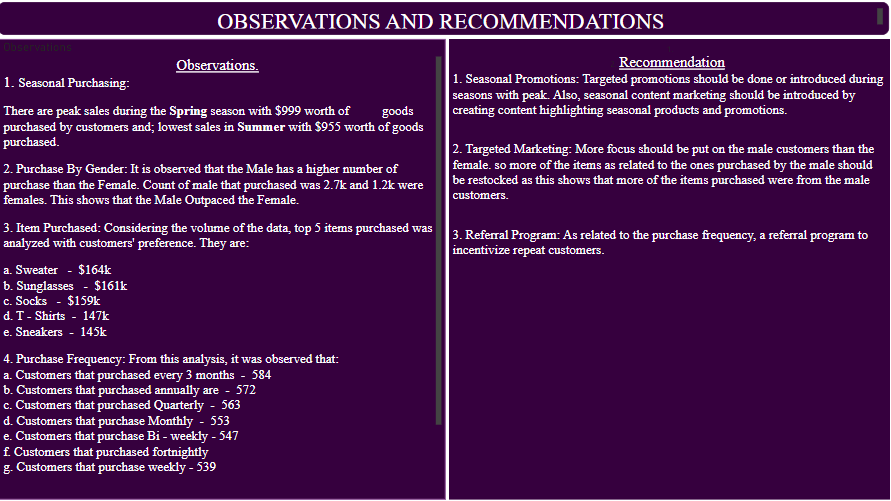

What the dashboard file says about the page in this screenshot:
{"tool":"powerbi","page":{"name":"Page 2","canvas":[1280,720],"ordinal":1},"visuals":[{"type":"textbox","box":[3.3,3.3,1273.3,46.7],"z":0},{"type":"textbox","title":"Observations","box":[3.9,56.3,637.5,658.5],"z":1000},{"type":"textbox","box":[646.7,56.3,629.7,658.5],"z":2000}]}

Visuals, with their boxes in screenshot pixels (x1, y1, x2, y2), scaled from the page's 1280x720 canvas onto the 891x501 screenshot:
textbox: 2 2 889 35
"Observations" textbox: 3 39 446 497
textbox: 450 39 888 497
